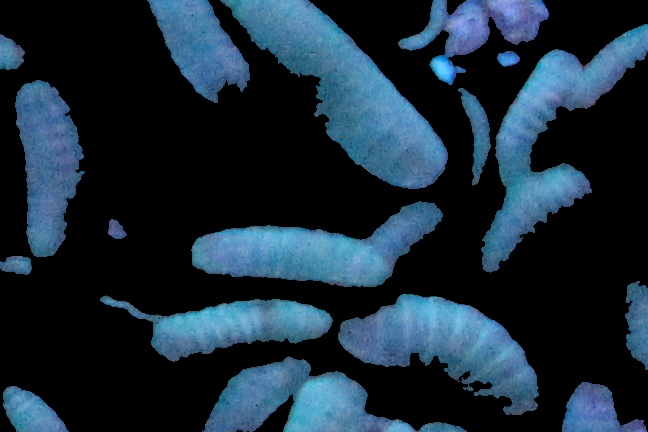larvae: (182, 1, 449, 189), (339, 292, 539, 414), (190, 224, 390, 286), (15, 80, 84, 258), (479, 164, 591, 273), (492, 52, 583, 182), (150, 299, 334, 361), (147, 1, 253, 103), (199, 358, 309, 432), (574, 22, 648, 110), (285, 368, 370, 432), (1, 383, 72, 432), (396, 1, 448, 49)
